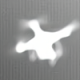plane: (11, 16, 79, 67)
